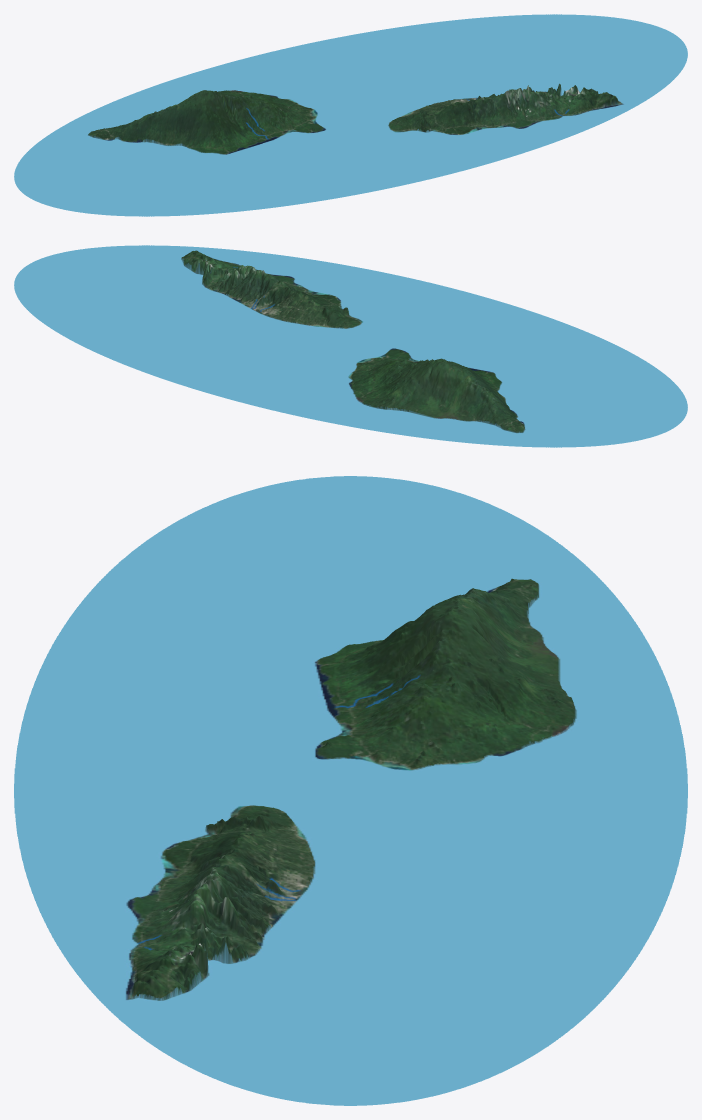
Rendered from WSM-previa-terrain.glb.
3 views of the same model, one above another, from view 1: azimuth 30°, elevation 25°; view 2: azimuth 150°, elevation 25°; view 3: azimuth 270°, elevation 25° (orthographic). The views are drawn at different scales.
Visible parts, largest first — view 1: Samoa; view 2: Samoa; view 3: Samoa.
Part boxes in pixels (left/top/right/bottom): Samoa: left=14, top=14, right=687, bottom=216; Samoa: left=14, top=245, right=687, bottom=447; Samoa: left=14, top=476, right=687, bottom=1105.
Bounding box in the file's own units: 2.63 × 0.1323 × 1.19.
1 material, 1 textured.
